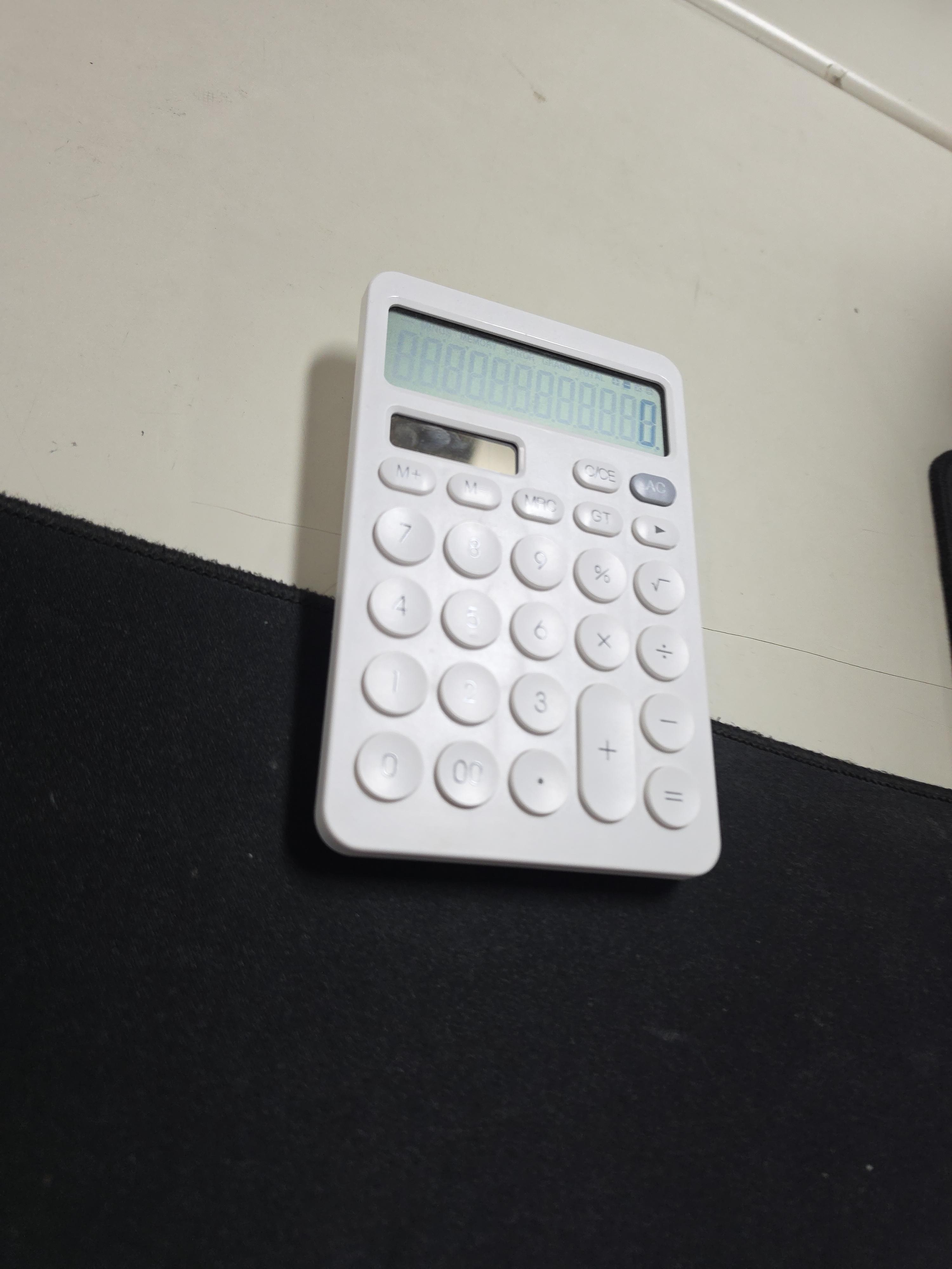calculator: (315, 271, 723, 879)
